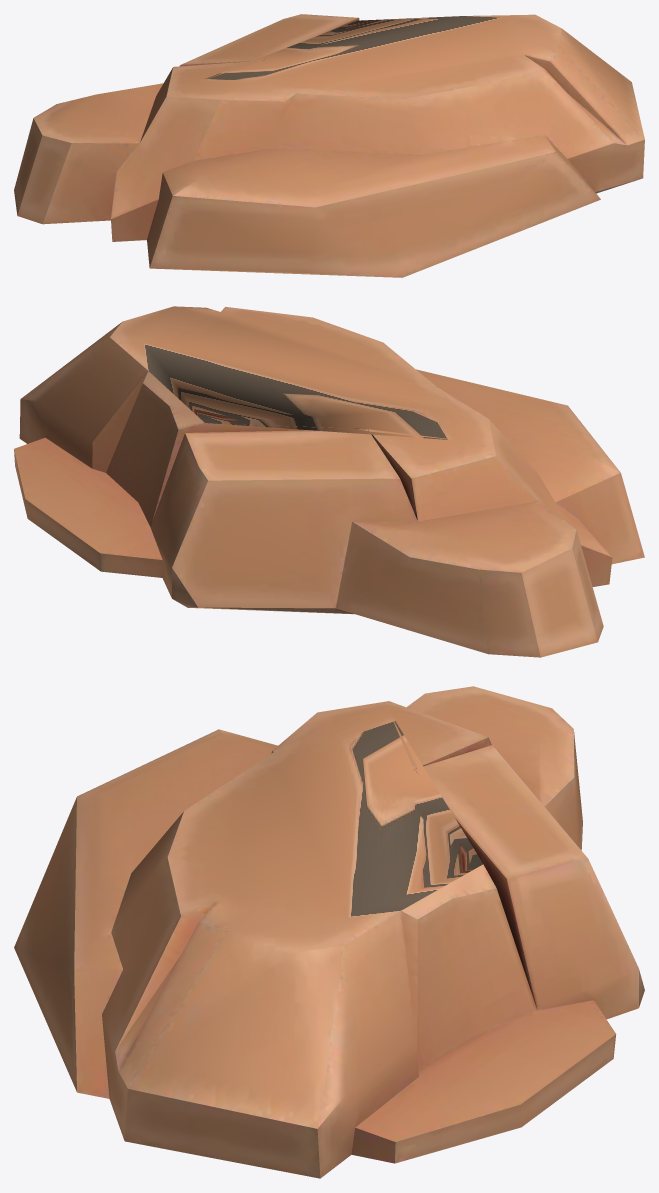
Rendered from desert-rock-11.glb.
The picture shows the model from 3 angles, top to bottom: view 1: azimuth 30°, elevation 25°; view 2: azimuth 150°, elevation 25°; view 3: azimuth 270°, elevation 25°; orthographic projection. The views are drawn at different scales.
Visible parts, largest first — view 1: Rock_4; view 2: Rock_4; view 3: Rock_4.
Boxes of the visible parts, x1,y1,x2,y2 form: Rock_4: [14, 14, 644, 277]; Rock_4: [14, 306, 644, 657]; Rock_4: [14, 686, 644, 1178].
Size of the model in its own units: 7.79 by 1.7 by 5.16.
1 material, 1 textured.
